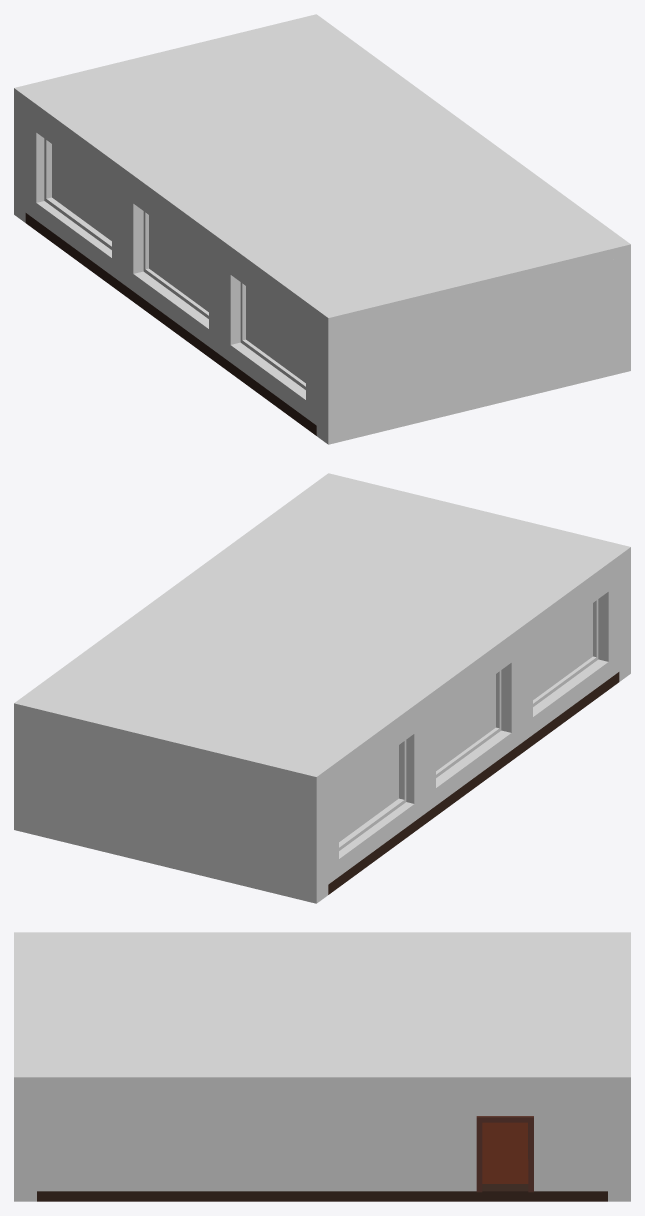
File: SchoolRoom.fbx
3 views of the same model, one above another, from view 1: azimuth 30°, elevation 25°; view 2: azimuth 150°, elevation 25°; view 3: azimuth 270°, elevation 25° (orthographic).
Parts seen in each view (by area): view 1: Ceiling, SideWall_1, WindowsWall, Windows, Floor, SideWall_2; view 2: Ceiling, SideWall_2, WindowsWall, Windows, Floor, SideWall_1; view 3: Ceiling, DoorWall, Floor, Door, SideWall_1, SideWall_2.
Part boxes in pixels (x1,y1,x2,y2): Ceiling: [14, 14, 630, 328]; SideWall_1: [316, 255, 630, 444]; WindowsWall: [25, 107, 316, 425]; Windows: [52, 144, 305, 382]; Floor: [25, 213, 316, 435]; SideWall_2: [14, 99, 25, 222]; Ceiling: [14, 473, 630, 787]; SideWall_2: [14, 714, 328, 903]; WindowsWall: [328, 566, 619, 884]; Windows: [339, 603, 592, 841]; Floor: [328, 672, 619, 894]; SideWall_1: [619, 558, 630, 681]; Ceiling: [14, 932, 630, 1087]; DoorWall: [37, 1087, 607, 1192]; Floor: [37, 1123, 607, 1201]; Door: [482, 1122, 528, 1183]; SideWall_1: [14, 1087, 36, 1201]; SideWall_2: [608, 1087, 630, 1201].
Bounding box in the file's own units: 3025 × 1200 × 5400.
